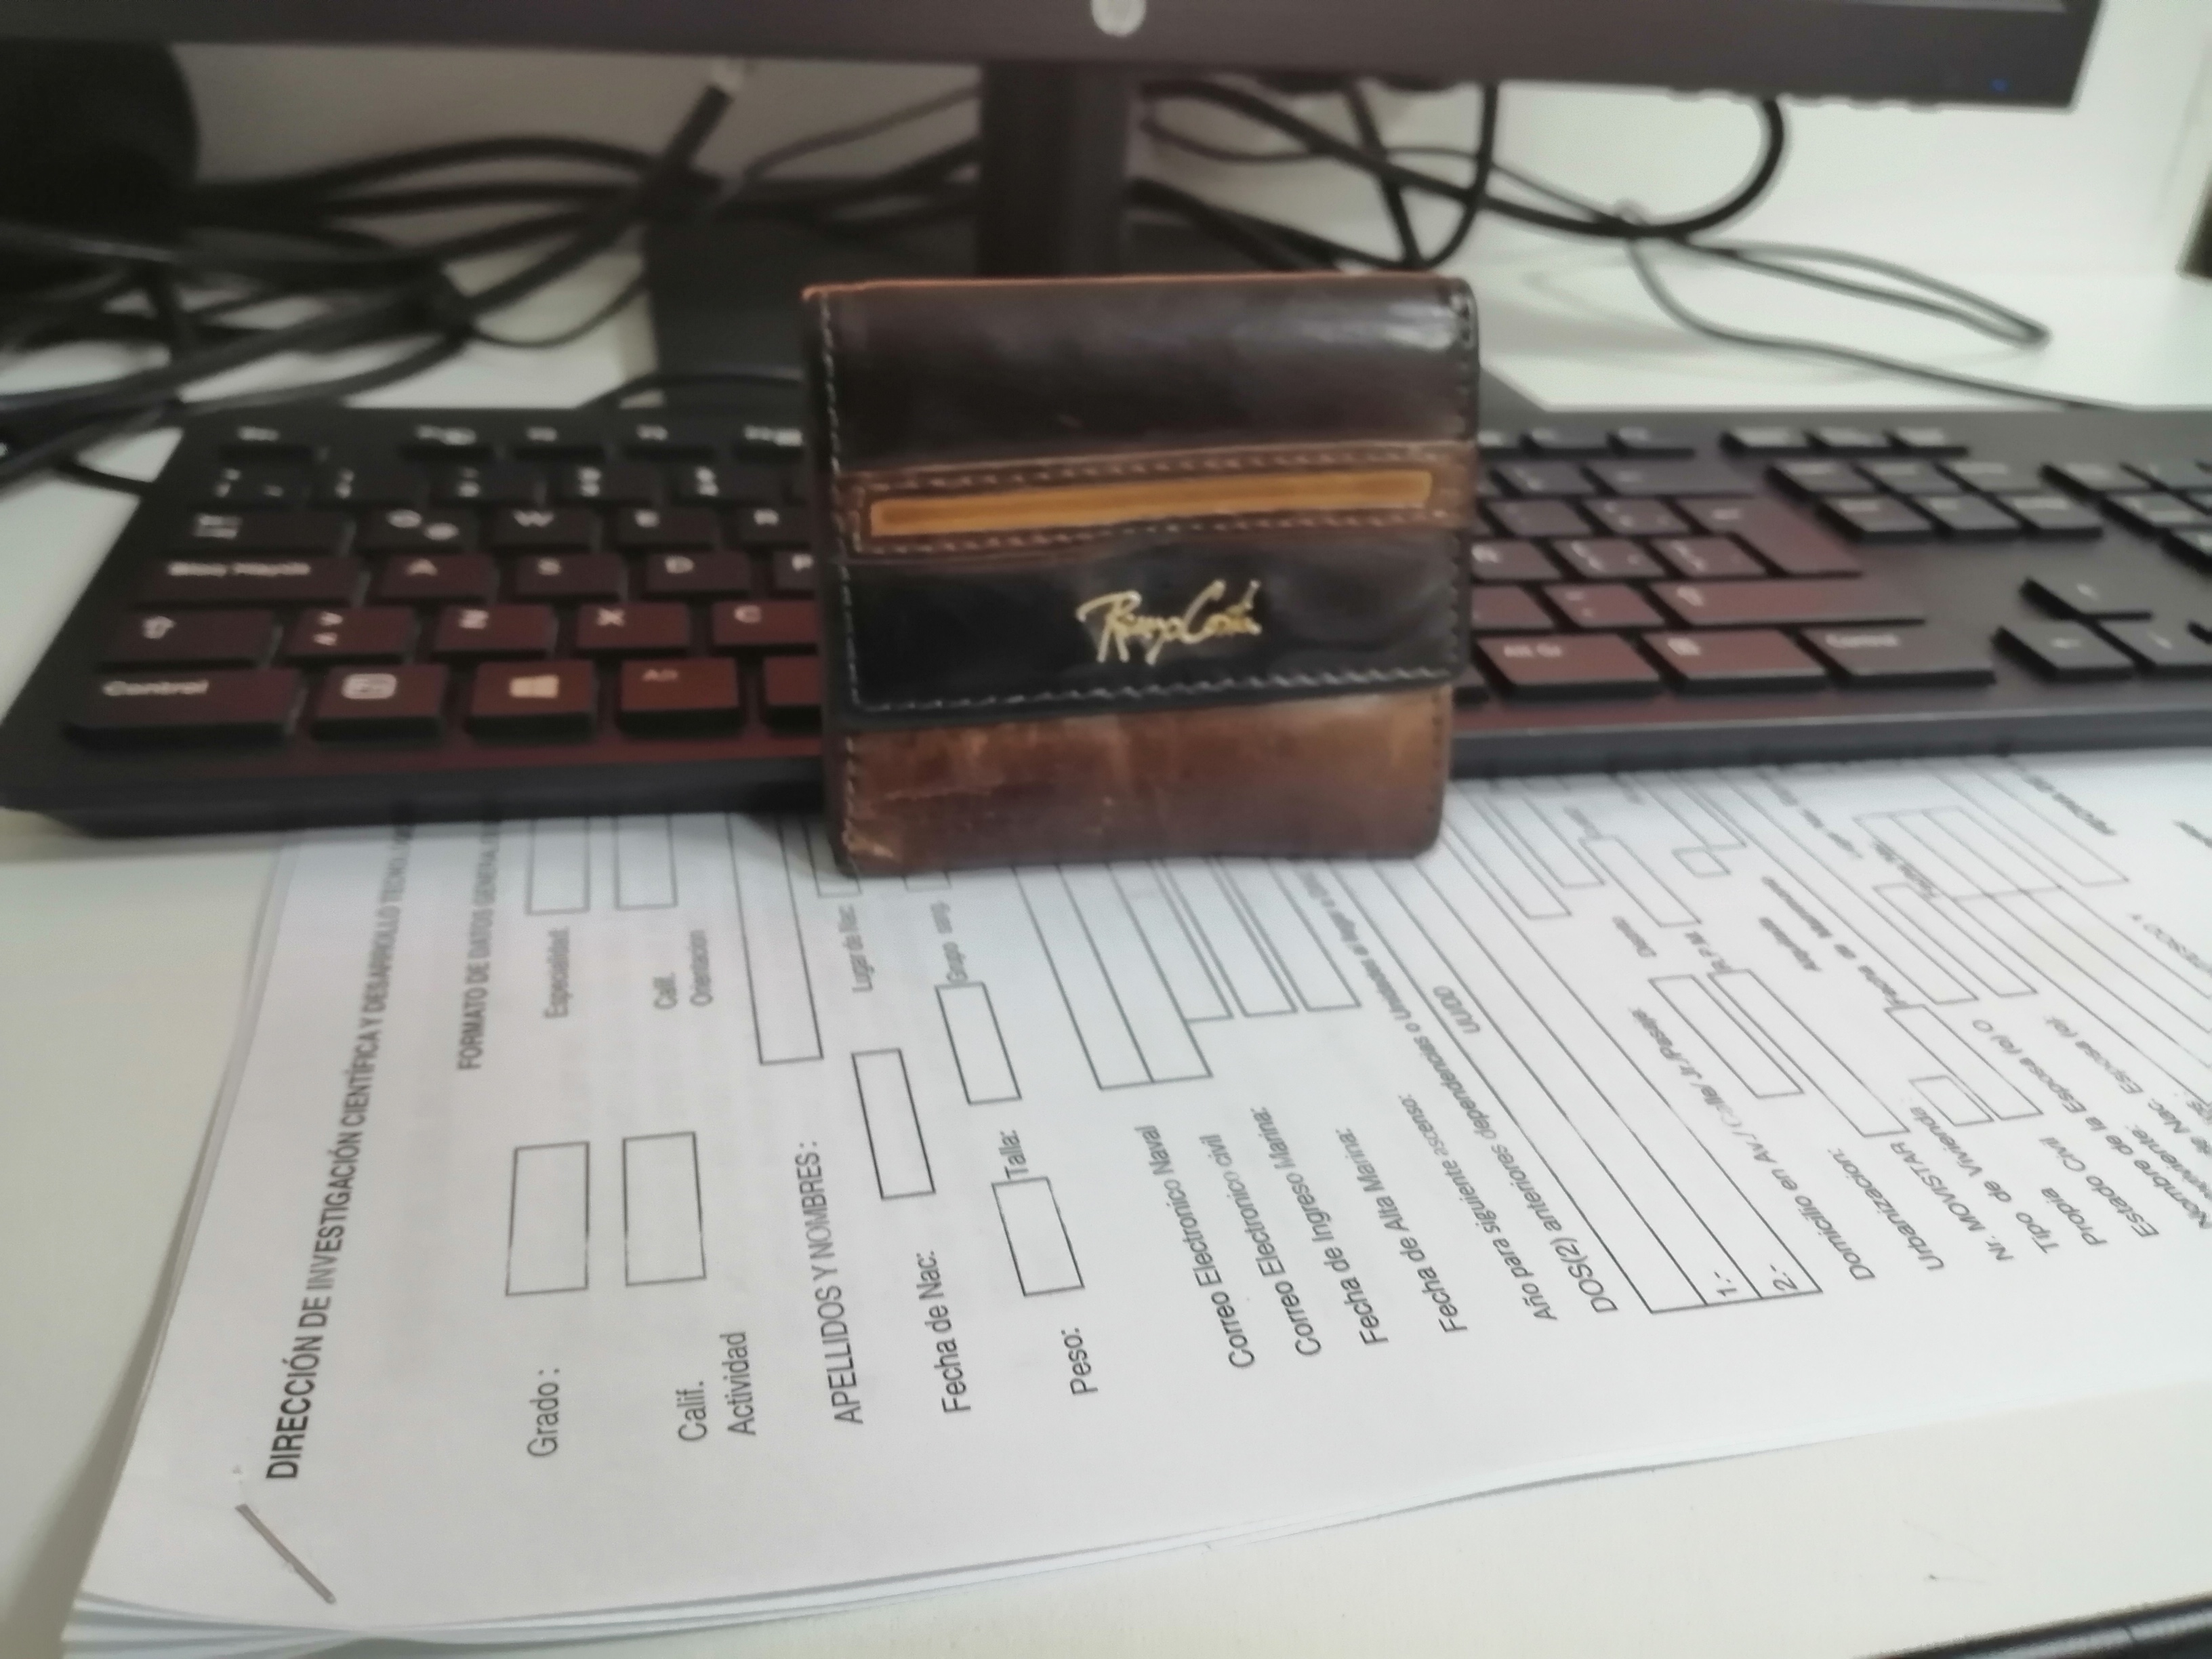monedero: (775, 258, 1493, 875)
